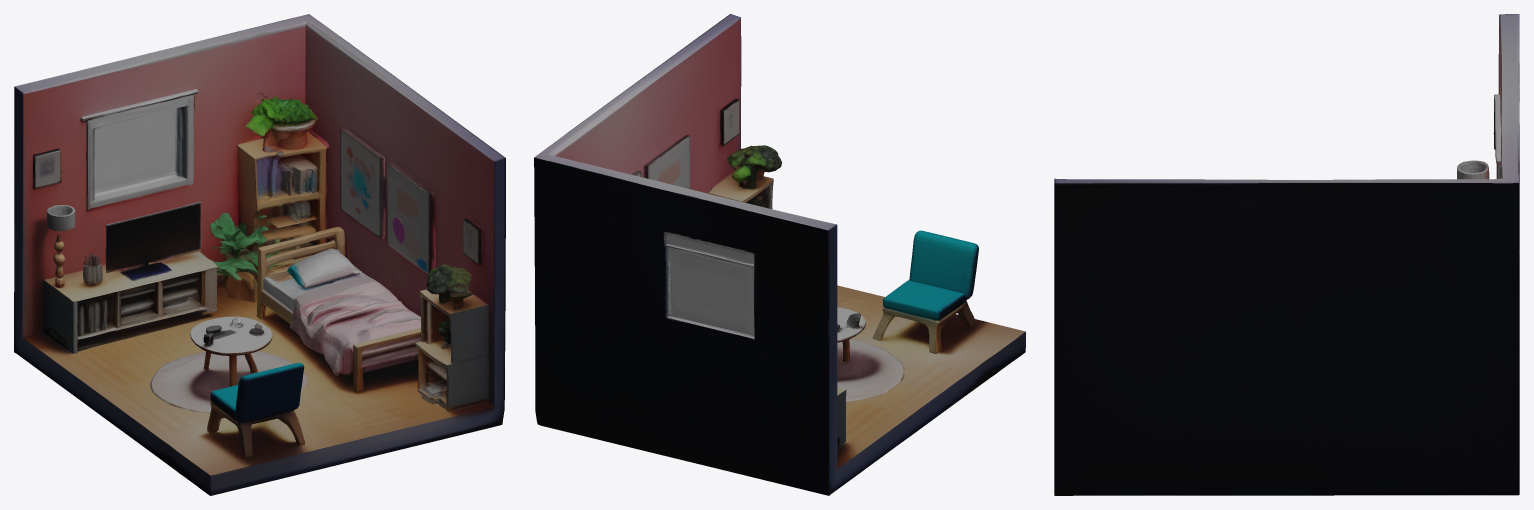
The model's file is main.glb.
3 views of the same model, side by side, from view 1: azimuth 30°, elevation 25°; view 2: azimuth 150°, elevation 25°; view 3: azimuth 270°, elevation 25° (orthographic). The views are drawn at different scales.
Visible parts, largest first — view 1: world; view 2: world; view 3: world.
Part boxes in pixels (x1,y1,x2,y2): world: [14, 14, 505, 495]; world: [534, 14, 1025, 495]; world: [1054, 14, 1519, 495].
Bounding box in the file's own units: 0.868 × 0.7481 × 1.
1 material, 1 textured.
